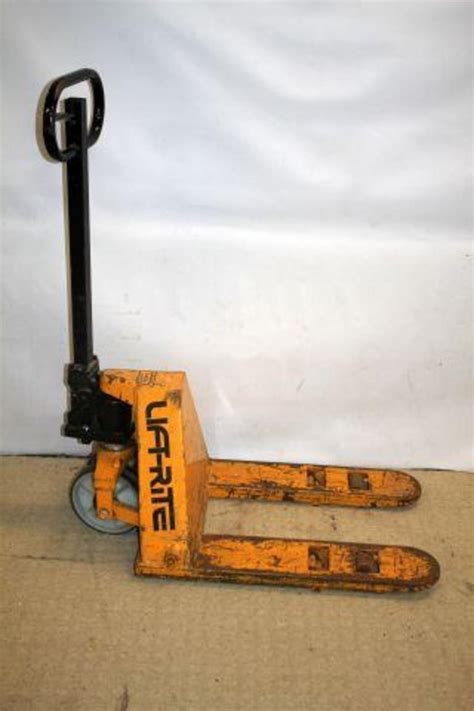Pallet Jack: (37, 69, 443, 594)
